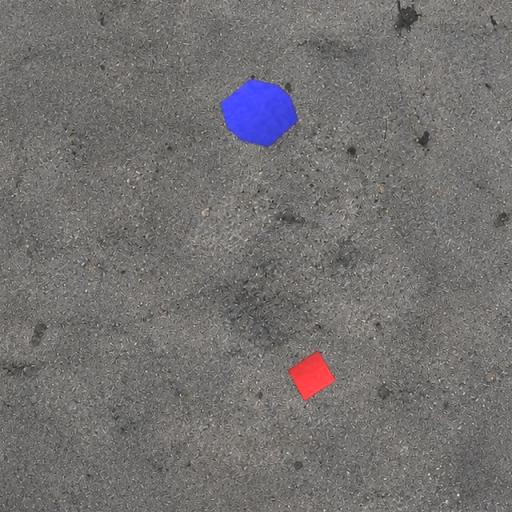RED_SQUARE: (286, 350, 337, 402)
